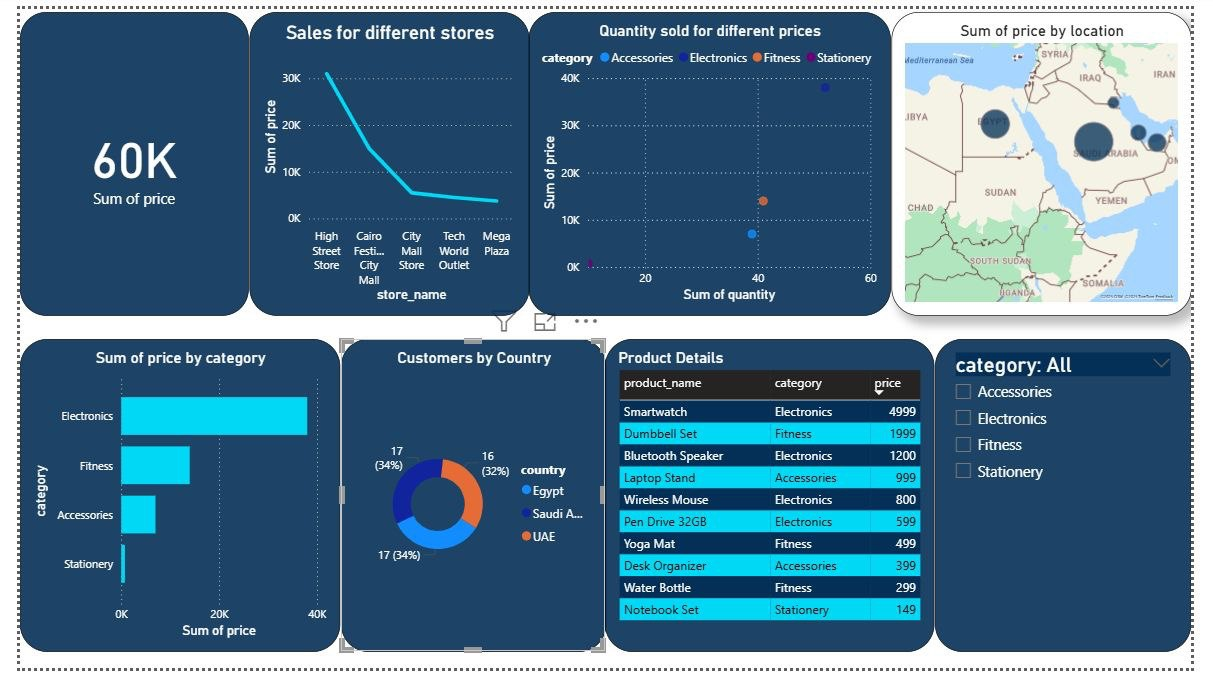

The dashboard page shown, as its layout file describes it:
{"tool":"powerbi","page":{"name":"Page 1","canvas":[1280,720],"ordinal":0},"visuals":[{"type":"card","fields":{"Values":["Sum(df_silver.price)"]},"box":[0,4,250,332],"z":0},{"type":"clusteredBarChart","fields":{"Category":["productss_bronze.category"],"Y":["Sum(df_silver.price)"]},"box":[0,360,350,342],"z":1000},{"type":"donutChart","title":"Customers by Country","fields":{"Category":["customers_bronze.country"],"Y":["CountNonNull(customers_bronze.customer_id)"]},"box":[350,360,290,342],"z":2000},{"type":"tableEx","title":"Product Details","fields":{"Values":["df_silver.product_name","productss_bronze.category","productss_bronze.price"]},"box":[640,360,360,342],"z":3000},{"type":"slicer","fields":{"Values":["productss_bronze.category"]},"box":[1000,360,280,342],"z":4000},{"type":"scatterChart","title":"Quantity sold for different prices","fields":{"X":["Sum(df_silver.quantity)"],"Y":["Sum(df_silver.price)"],"Series":["df_silver.category"]},"box":[556,4,396,332],"z":5000},{"type":"lineChart","title":"Sales for different stores","fields":{"Category":["store_bronze.store_name"],"Y":["Sum(df_silver.price)"]},"box":[250,4,306,332],"z":6000},{"type":"azureMap","fields":{"Category":["store_bronze.location"],"Size":["Sum(df_silver.price)"]},"box":[952,4,328,332],"z":7000}]}

Visuals, with their boxes in screenshot pixels (x1, y1, x2, y2), scaled from the page's 1280x720 canvas onto the 1213x681 screenshot:
card - Sum(df_silver.price): rect(0, 4, 237, 318)
clusteredBarChart - productss_bronze.category x Sum(df_silver.price): rect(0, 340, 332, 664)
"Customers by Country" donutChart: rect(332, 340, 606, 664)
"Product Details" tableEx: rect(606, 340, 948, 664)
slicer - productss_bronze.category: rect(948, 340, 1212, 664)
"Quantity sold for different prices" scatterChart: rect(527, 4, 902, 318)
"Sales for different stores" lineChart: rect(237, 4, 527, 318)
azureMap - store_bronze.location x Sum(df_silver.price): rect(902, 4, 1212, 318)
